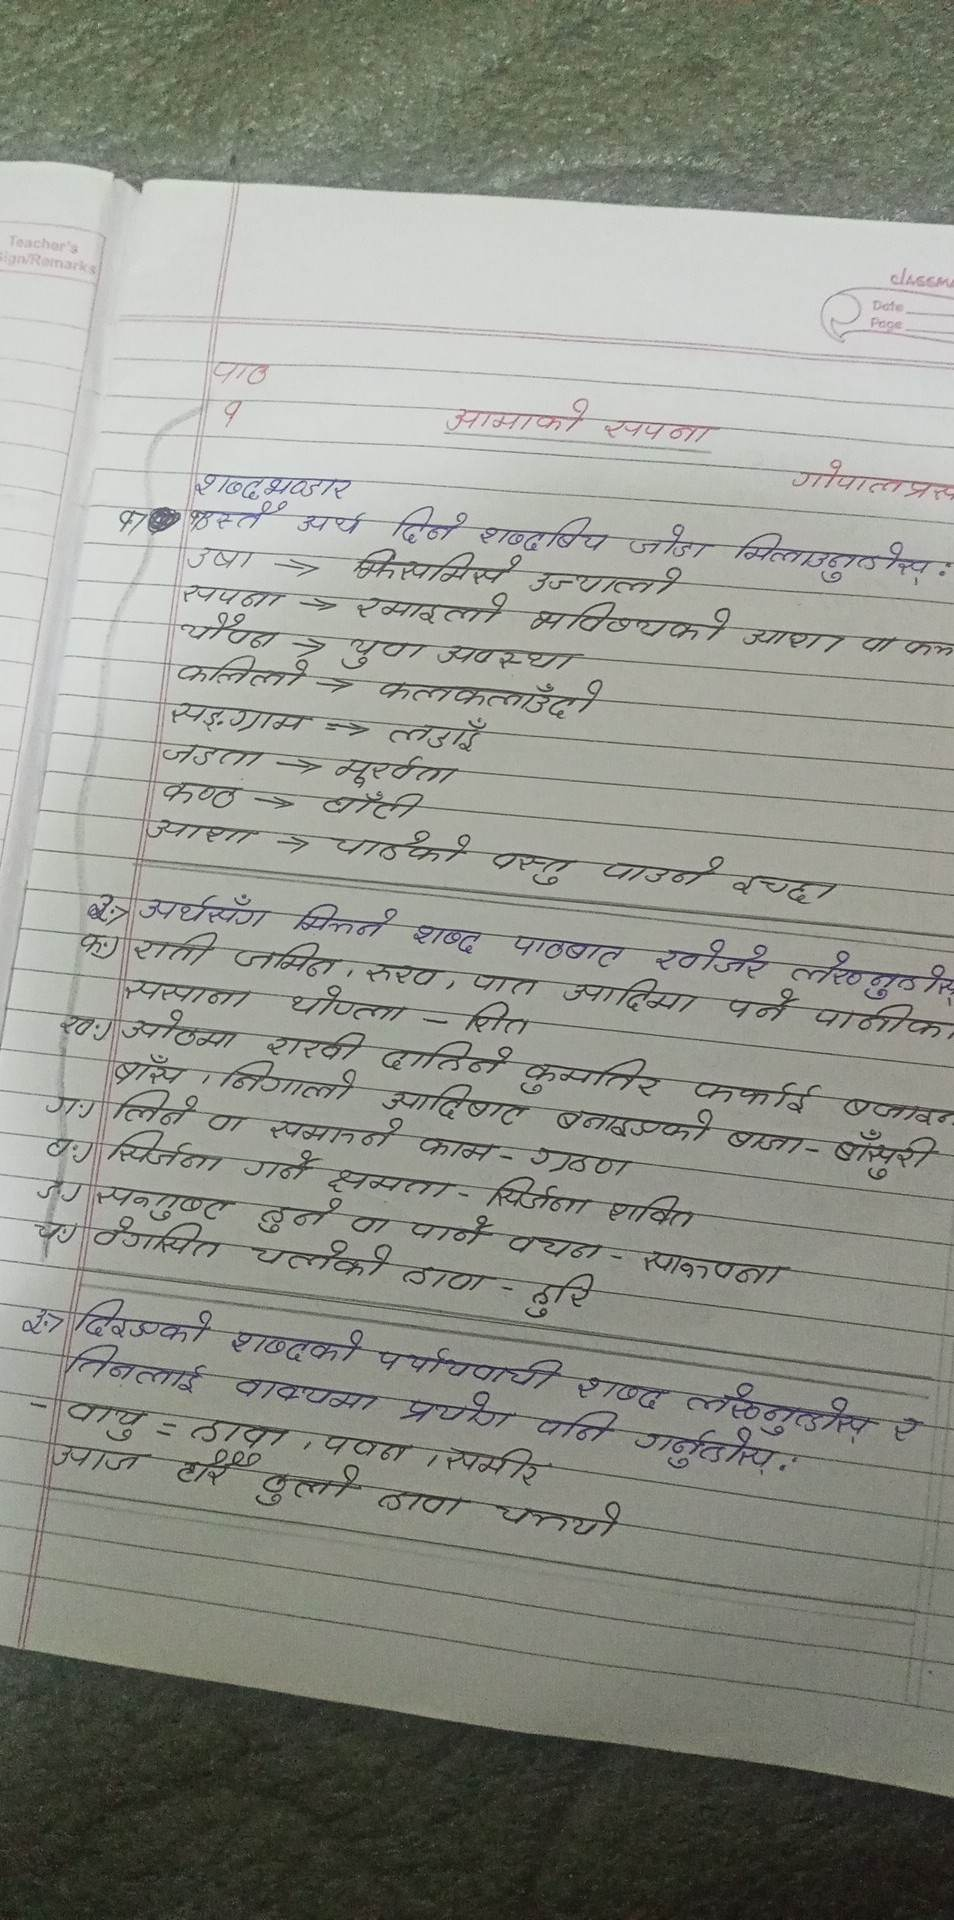text: (377, 666, 603, 722), (732, 529, 936, 585), (680, 1382, 876, 1438), (376, 1341, 565, 1395), (789, 943, 954, 1004), (528, 598, 734, 647), (789, 457, 954, 504), (640, 1423, 778, 1480), (242, 1233, 396, 1284), (489, 1488, 633, 1540), (554, 973, 702, 1024), (517, 1049, 664, 1100), (225, 1319, 365, 1371), (73, 1297, 216, 1348), (554, 1100, 714, 1145), (378, 1076, 527, 1125), (351, 545, 522, 587), (218, 1057, 358, 1107), (634, 1245, 787, 1291), (817, 1000, 954, 1051), (94, 1216, 224, 1269), (65, 1347, 205, 1395), (437, 637, 590, 680), (165, 696, 314, 740), (100, 1176, 236, 1223), (397, 1387, 525, 1438), (325, 825, 474, 868), (445, 397, 593, 440), (353, 587, 509, 627), (834, 1125, 937, 1185), (228, 1371, 376, 1413), (380, 1036, 517, 1080), (176, 651, 312, 696), (265, 1111, 408, 1152), (110, 1131, 229, 1180), (190, 468, 351, 503), (321, 1161, 454, 1204), (288, 981, 407, 1029), (137, 891, 272, 933), (525, 564, 688, 599), (652, 936, 774, 980), (120, 975, 252, 1015), (476, 516, 612, 555), (682, 1073, 818, 1112), (332, 749, 458, 791), (250, 1463, 365, 1509), (145, 809, 262, 852), (442, 1440, 547, 1488), (483, 1173, 596, 1217), (603, 851, 726, 891), (118, 1013, 241, 1053), (509, 932, 628, 973), (64, 1392, 151, 1446), (233, 940, 342, 983), (519, 1266, 601, 1322), (485, 840, 580, 887), (841, 1089, 954, 1128), (265, 1022, 367, 1065), (291, 899, 400, 939), (190, 1408, 290, 1451), (502, 1228, 606, 1269), (600, 416, 720, 449), (178, 613, 282, 651), (382, 718, 486, 756), (338, 629, 425, 675), (531, 1406, 632, 1445), (745, 620, 843, 659), (178, 577, 285, 612), (160, 736, 268, 771), (522, 1147, 634, 1180), (569, 1375, 672, 1411), (628, 523, 714, 564), (600, 1193, 700, 1228), (320, 787, 427, 820), (317, 1428, 414, 1464), (258, 1193, 340, 1236), (734, 867, 817, 909), (377, 1483, 470, 1520), (158, 773, 242, 813), (116, 1089, 198, 1129), (389, 503, 469, 545), (184, 500, 287, 531), (49, 1441, 152, 1473), (133, 932, 222, 969), (398, 1260, 487, 1296), (460, 1000, 541, 1040), (293, 501, 372, 540), (416, 1131, 497, 1169), (725, 984, 796, 1027), (174, 1452, 258, 1488), (724, 1123, 805, 1160), (241, 1149, 321, 1185), (111, 1053, 193, 1089), (409, 1213, 490, 1249), (469, 965, 544, 1000), (410, 923, 483, 959), (206, 355, 276, 391), (362, 961, 442, 988), (185, 541, 254, 572), (202, 1107, 245, 1139), (885, 1407, 922, 1444), (54, 1014, 100, 1040), (214, 396, 250, 429), (44, 1089, 81, 1120), (858, 629, 896, 660), (350, 1212, 389, 1239), (31, 1213, 65, 1242), (75, 932, 110, 958), (33, 1176, 62, 1206), (47, 1131, 72, 1161)
